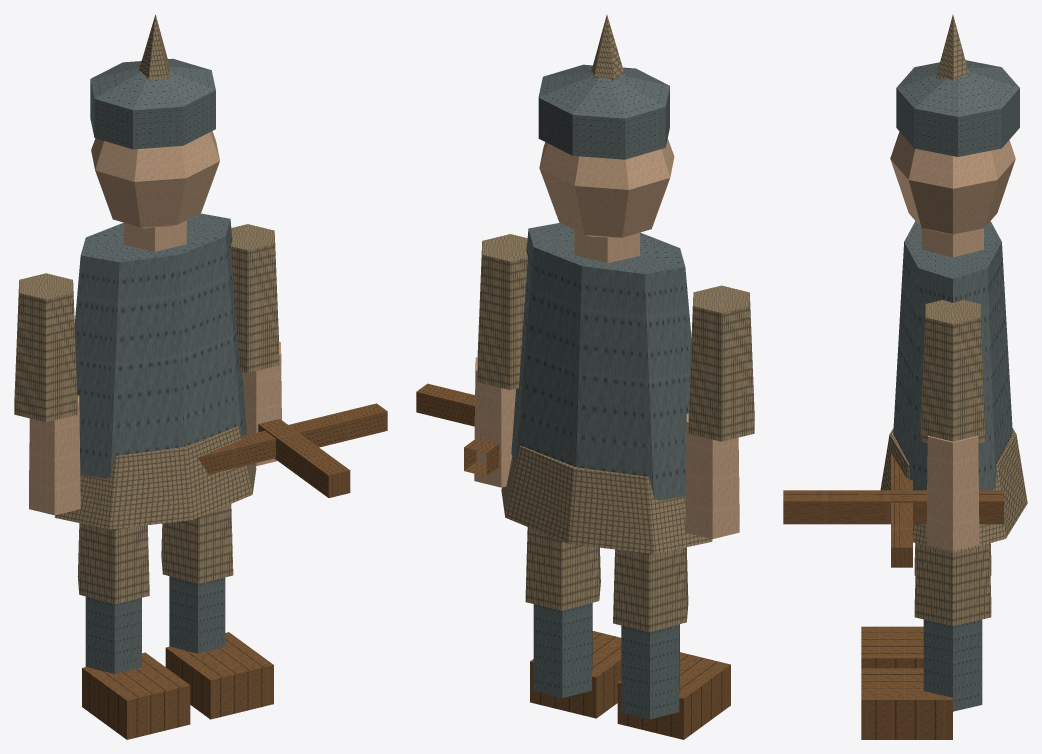
The model's file is unit-CROSSBOW-lod1.glb.
The picture shows the model from 3 angles, left to right: view 1: azimuth 30°, elevation 25°; view 2: azimuth 150°, elevation 25°; view 3: azimuth 270°, elevation 25°; orthographic projection. The views are drawn at different scales.
Size of the model in its own units: 0.238 by 0.448 by 0.144.
1 material, 1 textured.
